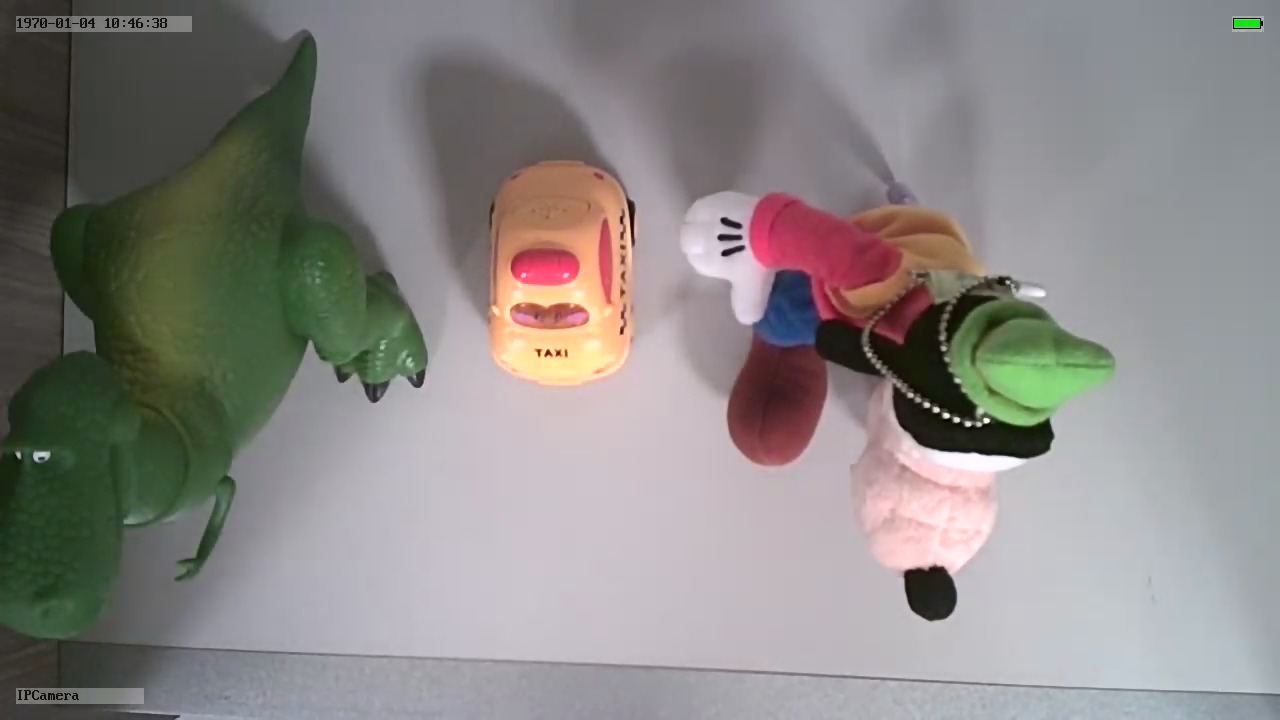goofy: (678, 186, 1119, 626)
